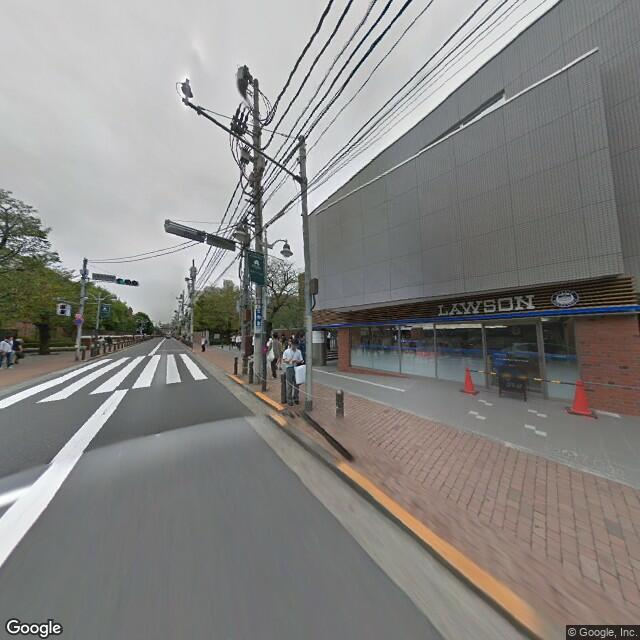lawson: (428, 283, 584, 326)
